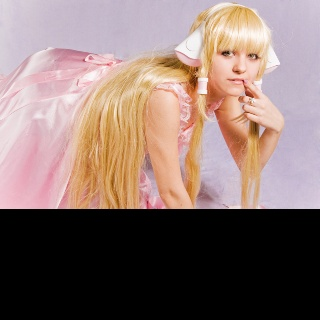without_mask: (211, 48, 261, 96)
